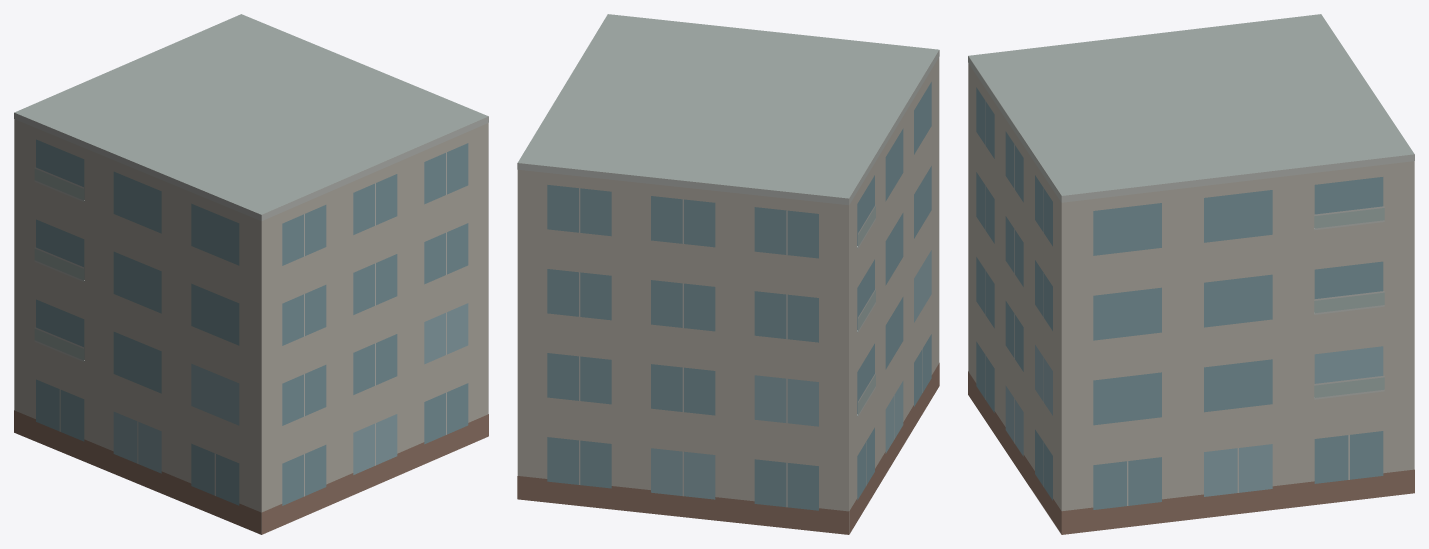
Rendered from survey-upis-32909466.glb.
3 views of the same model, side by side, from view 1: azimuth 30°, elevation 25°; view 2: azimuth 150°, elevation 25°; view 3: azimuth 270°, elevation 25° (orthographic). The views are drawn at different scales.
Visible parts, largest first — view 1: survey-upis-32909466.tmp; view 2: survey-upis-32909466.tmp; view 3: survey-upis-32909466.tmp.
Boxes of the visible parts, bbox=[...] form: survey-upis-32909466.tmp: bbox=[14, 14, 488, 534]; survey-upis-32909466.tmp: bbox=[517, 14, 939, 534]; survey-upis-32909466.tmp: bbox=[968, 14, 1414, 534].
Bounding box in the file's own units: 14.06 × 12.2 × 14.58.
